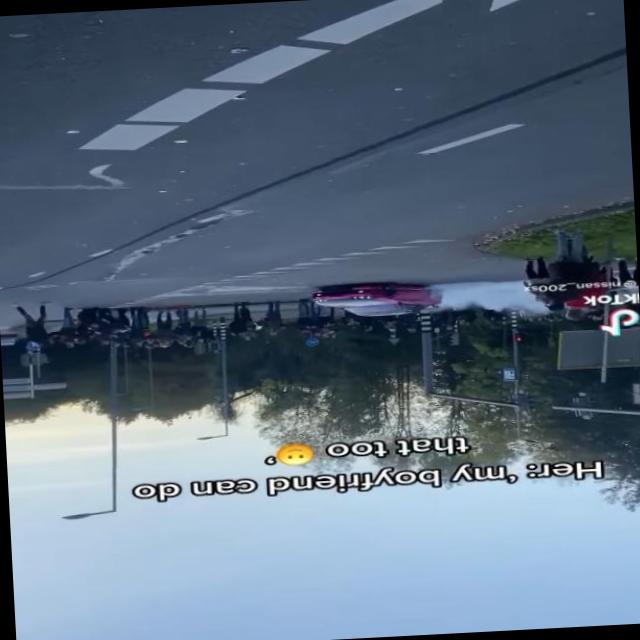car: (306, 276, 442, 322)
